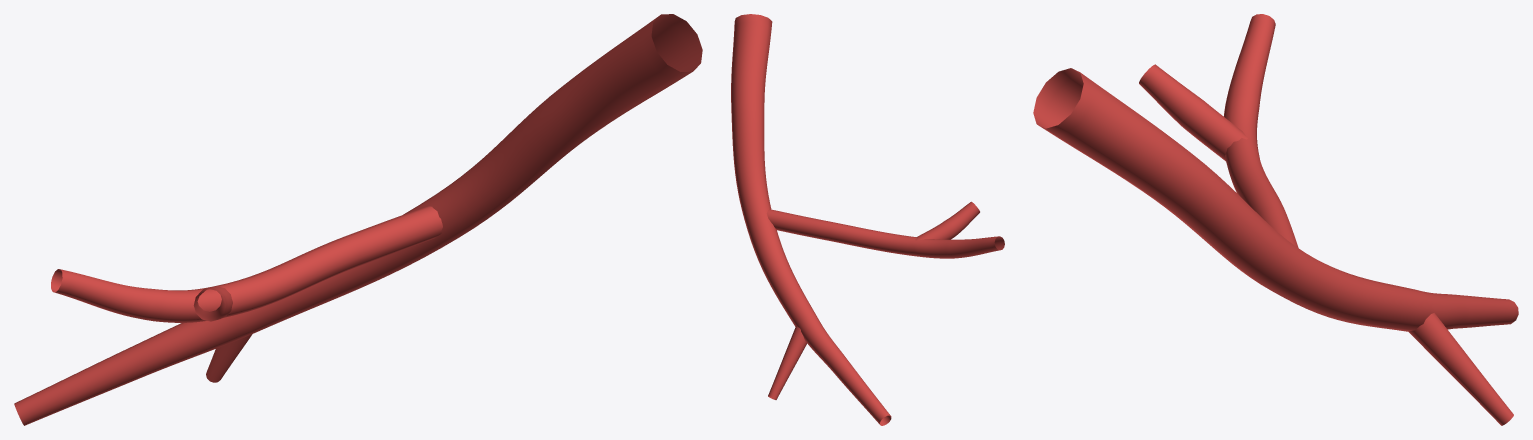
The picture shows the model from 3 angles, left to right: view 1: azimuth 30°, elevation 25°; view 2: azimuth 150°, elevation 25°; view 3: azimuth 270°, elevation 25°; orthographic projection. The views are drawn at different scales.
Parts seen in each view (by area): view 1: 右肺外侧段动脉; view 2: 右肺外侧段动脉; view 3: 右肺外侧段动脉.
Part boxes in pixels (x1,y1,x2,y2): 右肺外侧段动脉: (14, 14, 702, 425); 右肺外侧段动脉: (731, 14, 1004, 425); 右肺外侧段动脉: (1033, 14, 1518, 425).
Bounding box in the file's own units: 0.1144 × 0.0903 × 0.0834.
